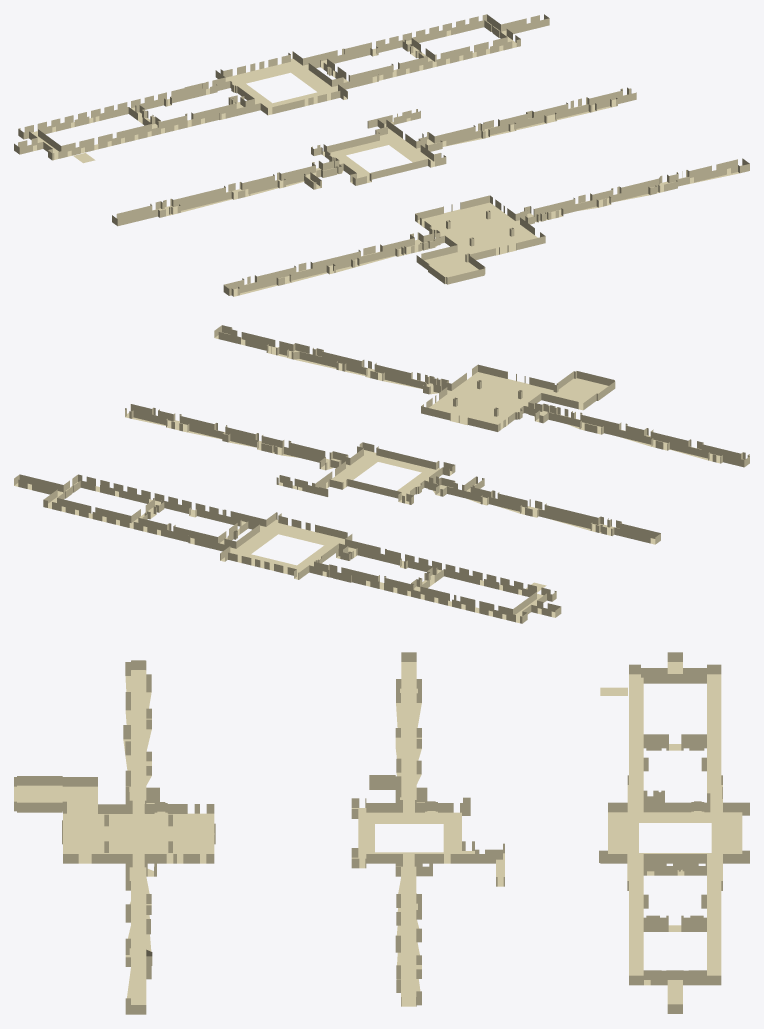
The model's file is Building-J-Atrium_All-Floors.fbx.
3 renders of one model, top to bottom at view 1: azimuth 30°, elevation 25°; view 2: azimuth 150°, elevation 25°; view 3: azimuth 270°, elevation 25°, orthographic. The views are drawn at different scales.
Visible parts, largest first — view 1: B-J-Atrium_Floor-3, B-J-Atrium_Floor-1, B-J-Atrium_Floor-2; view 2: B-J-Atrium_Floor-3, B-J-Atrium_Floor-1, B-J-Atrium_Floor-2; view 3: B-J-Atrium_Floor-3, B-J-Atrium_Floor-1, B-J-Atrium_Floor-2.
Part boxes in pixels (bbox=[...]): B-J-Atrium_Floor-3: bbox=[14, 14, 549, 163]; B-J-Atrium_Floor-1: bbox=[223, 158, 749, 296]; B-J-Atrium_Floor-2: bbox=[112, 87, 636, 226]; B-J-Atrium_Floor-3: bbox=[14, 474, 561, 623]; B-J-Atrium_Floor-1: bbox=[214, 325, 749, 467]; B-J-Atrium_Floor-2: bbox=[125, 404, 660, 544]; B-J-Atrium_Floor-3: bbox=[599, 652, 749, 1013]; B-J-Atrium_Floor-1: bbox=[14, 660, 215, 1014]; B-J-Atrium_Floor-2: bbox=[351, 652, 504, 1006].
Size of the model in its own units: 1150 by 14.8 by 1014.
